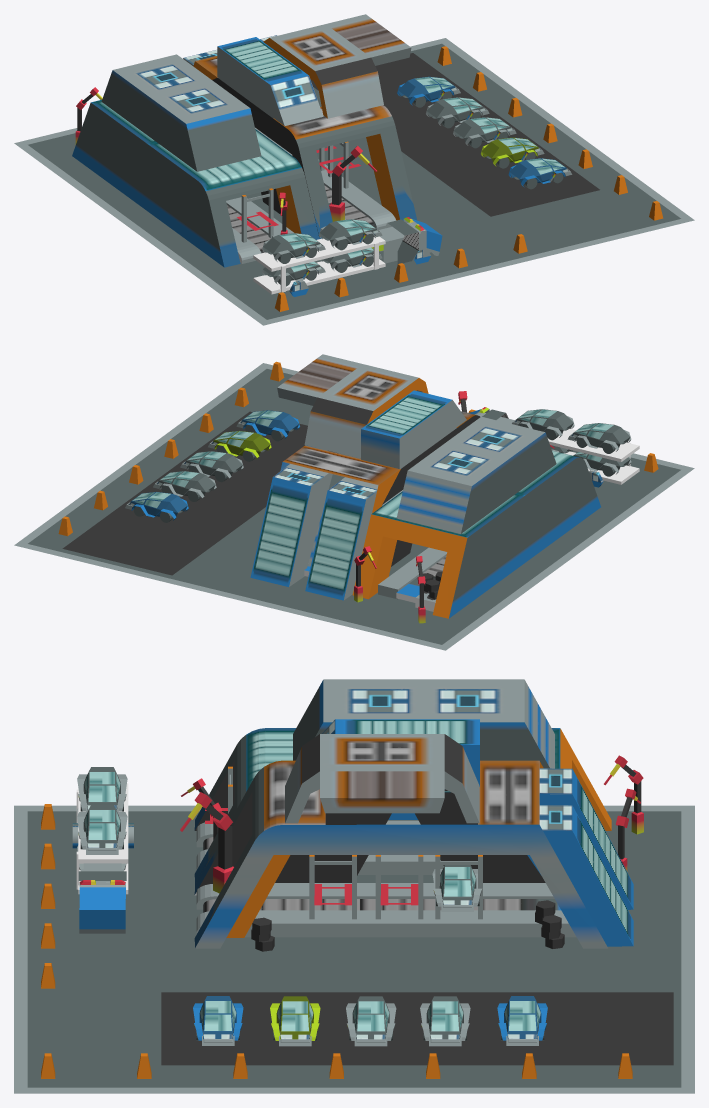
File: automotive_LV1.fbx
3 renders of one model, top to bottom at view 1: azimuth 30°, elevation 25°; view 2: azimuth 150°, elevation 25°; view 3: azimuth 270°, elevation 25°, orthographic. The views are drawn at different scales.
Visible parts, largest first — view 1: auto level 1; view 2: auto level 1; view 3: auto level 1.
Boxes of the visible parts, x1=… form: auto level 1: x1=14, y1=14, x2=694, y2=325; auto level 1: x1=14, y1=354, x2=694, y2=650; auto level 1: x1=14, y1=679, x2=694, y2=1093.
Size of the model in its own units: 160 by 47.89 by 160.
